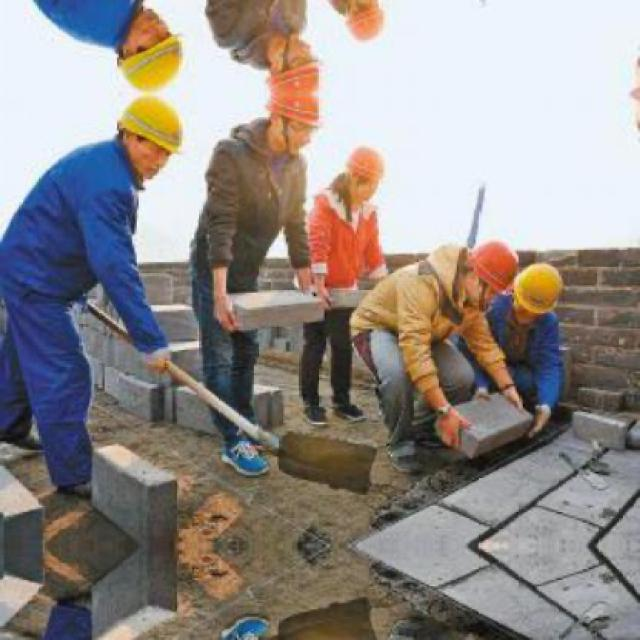con casco: (73, 92, 203, 208), (441, 216, 530, 322), (498, 248, 594, 330), (276, 80, 340, 146), (346, 134, 409, 198)
